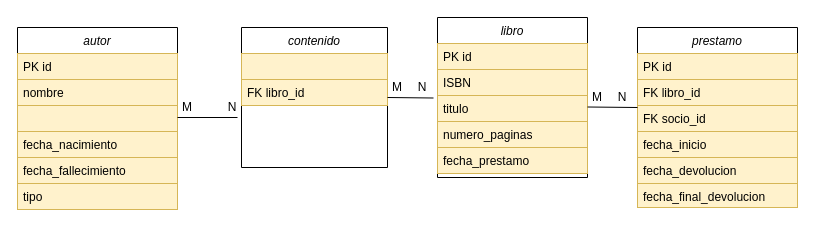
Image size: 815x230. Some labels were removed from this diagram. The shapes that lost their labels are listed below. From the top down, each one's centre as x and y in pixels, then its label:
point 314,66: FK autor_id
point 97,118: apellido
